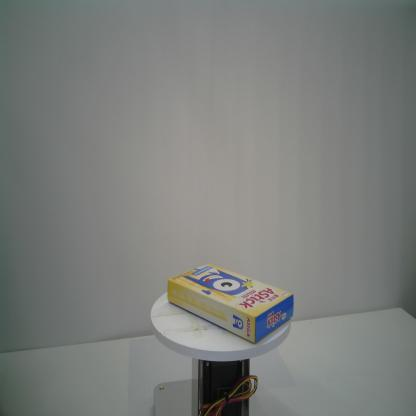Dessert: (167, 262, 295, 346)
